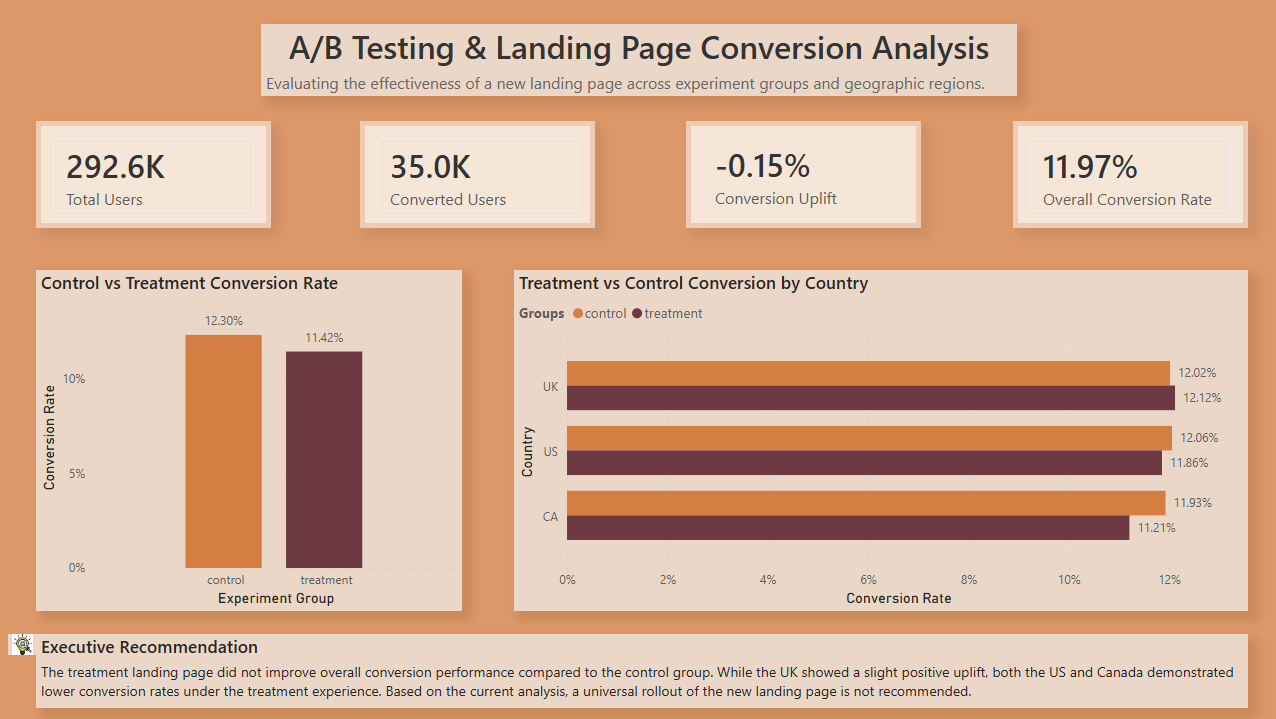

The page's visual inventory and layout, read from the dashboard file:
{"tool":"powerbi","page":{"name":"Page 1","canvas":[1280,720],"ordinal":0},"visuals":[{"type":"cardVisual","fields":{"Data":["CountNonNull(ab_data.user_id)"]},"box":[37,121,235,107],"z":0},{"type":"cardVisual","fields":{"Data":["Sum(ab_data.converted)"]},"box":[361,121,235,107],"z":1000},{"type":"cardVisual","fields":{"Data":["ab_data.Overall Conversion Rate"]},"box":[1014,121,235,107],"z":2000},{"type":"cardVisual","fields":{"Data":["ab_data.Conver Uplift"]},"box":[687,121,235,107],"z":3000},{"type":"clusteredColumnChart","title":"Control vs Treatment Conversion Rate","fields":{"Category":["output of sql full table.test_group"],"Y":["output of sql full table.Conversion Rate"]},"box":[37,270.4,426,340.4],"z":4000},{"type":"clusteredBarChart","title":"Treatment vs Control Conversion by Country","fields":{"Series":["contrywise treatment and control perfomance.test_group"],"Category":["contrywise treatment and control perfomance.country"],"Y":["Sum(contrywise treatment and control perfomance.conversion_rate)"]},"box":[514.5,270.4,734.3,340.4],"z":5000},{"type":"textbox","title":"Executive Recommendation","box":[37,634.2,1211.9,73.9],"z":6000},{"type":"textbox","title":"A/B Testing & Landing Page Conversion Analysis","box":[261.6,24.3,756.7,72],"z":7000},{"type":"image","box":[9,634,28,21],"z":8000}]}

Visuals, with their boxes in screenshot pixels (x1, y1, x2, y2), scaled from the page's 1280x720 canvas onto the 1276x719 screenshot:
cardVisual - CountNonNull(ab_data.user_id): crop(37, 121, 271, 228)
cardVisual - Sum(ab_data.converted): crop(360, 121, 594, 228)
cardVisual - ab_data.Overall Conversion Rate: crop(1011, 121, 1245, 228)
cardVisual - ab_data.Conver Uplift: crop(685, 121, 919, 228)
"Control vs Treatment Conversion Rate" clusteredColumnChart: crop(37, 270, 462, 610)
"Treatment vs Control Conversion by Country" clusteredBarChart: crop(513, 270, 1245, 610)
"Executive Recommendation" textbox: crop(37, 633, 1245, 707)
"A/B Testing & Landing Page Conversion Analysis" textbox: crop(261, 24, 1015, 96)
image: crop(9, 633, 37, 654)
